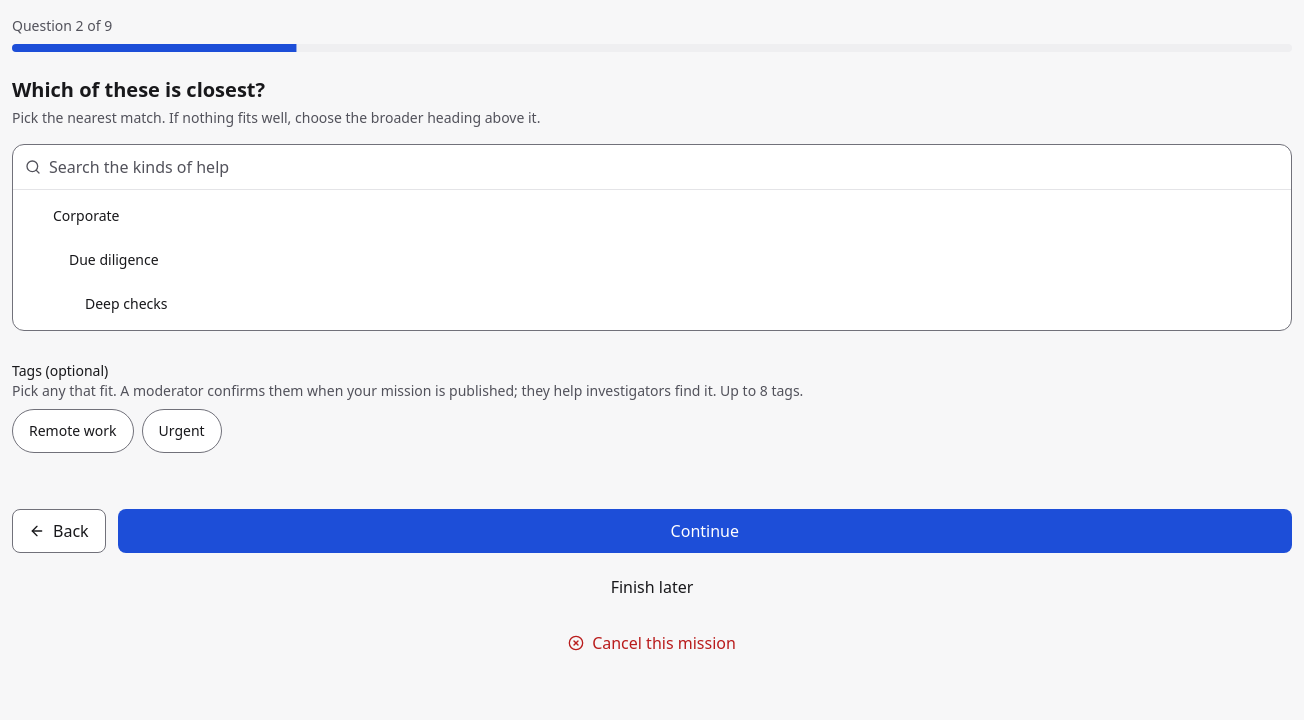
Test case: mission intake › moving between questions › goes back a question, and clears what it flagged
Click the button "Continue".
click(705, 531)  # box [118,509,1292,553]
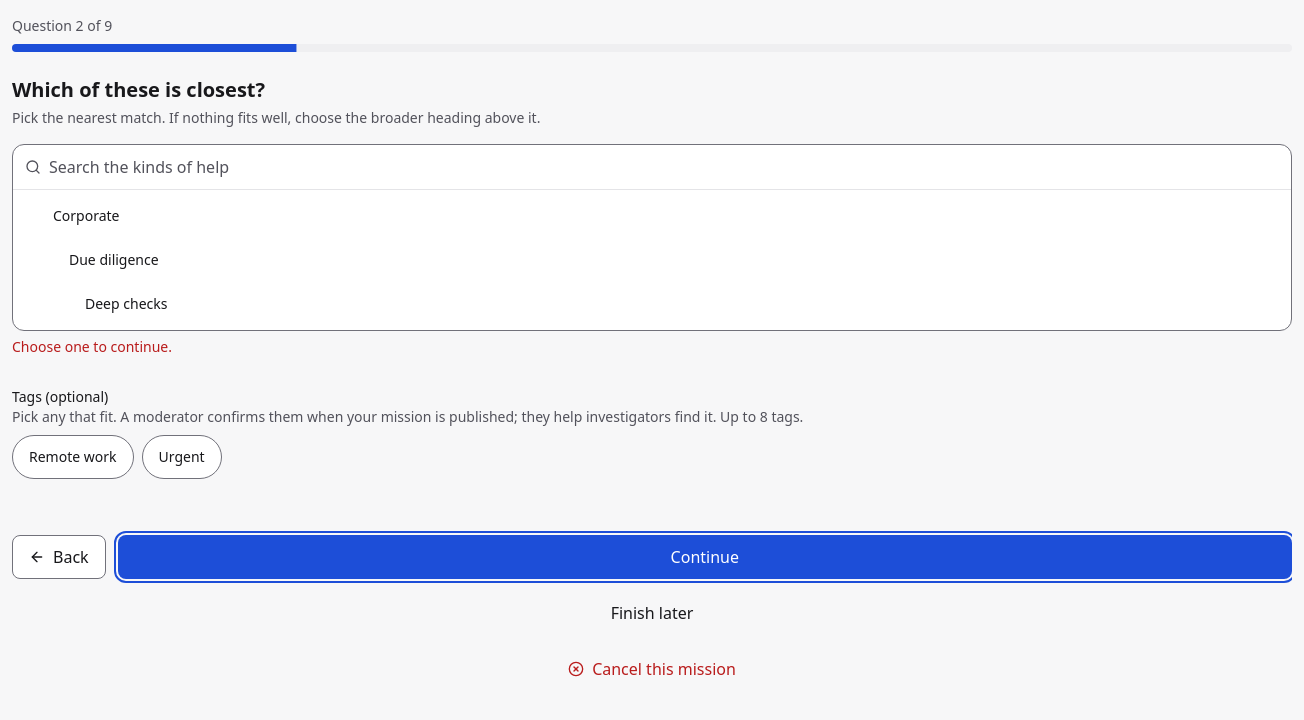
Expected: the text "Choose one to continue." is shown, [12,337,172,356]
Click the button "Back".
click(59, 557)  # box [12,535,106,579]
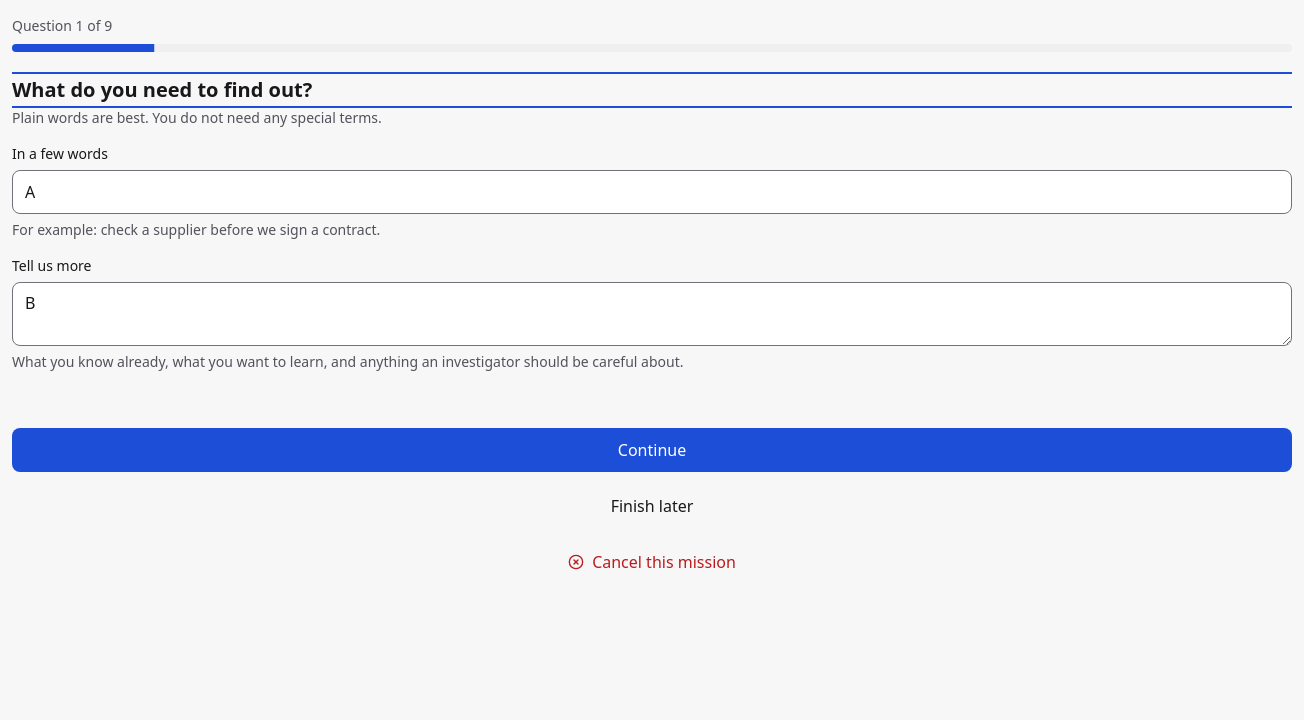
Expected: the button "Back" is gone
